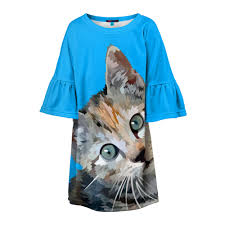cat: (71, 43, 158, 205)
